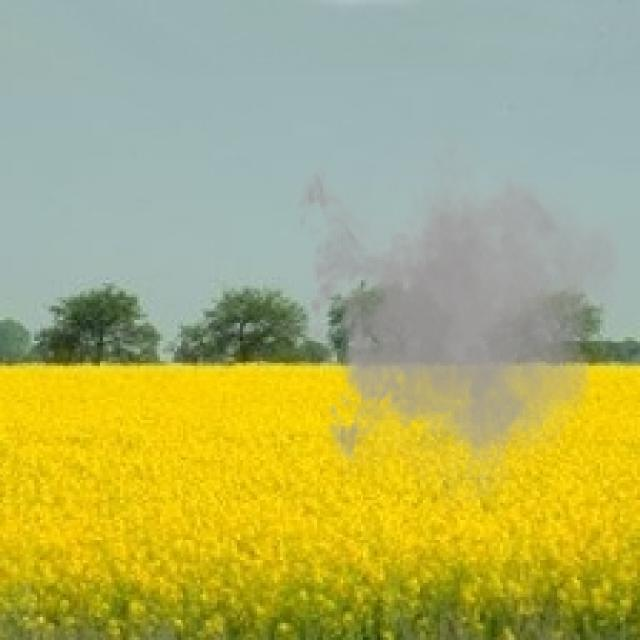Smoke: (286, 108, 628, 523)
